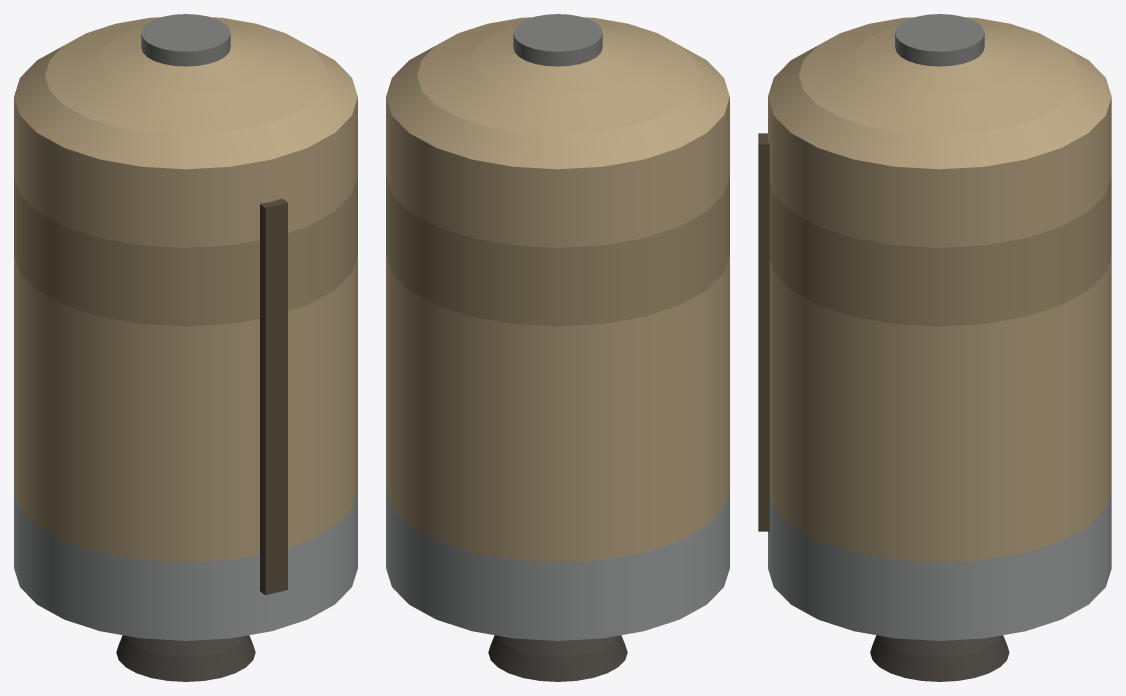
Rendered from rb-cyl-proton.obj.
3 renders of one model, left to right at view 1: azimuth 30°, elevation 25°; view 2: azimuth 150°, elevation 25°; view 3: azimuth 270°, elevation 25°, orthographic.
Visible parts, largest first — view 1: rb-cyl-proton; view 2: rb-cyl-proton; view 3: rb-cyl-proton.
Boxes of the visible parts, x1,y1,x2,y2 form: rb-cyl-proton: (14, 14, 357, 681); rb-cyl-proton: (386, 14, 729, 681); rb-cyl-proton: (758, 14, 1111, 681).
Size of the model in its own units: 3.7 by 7.36 by 3.8.
